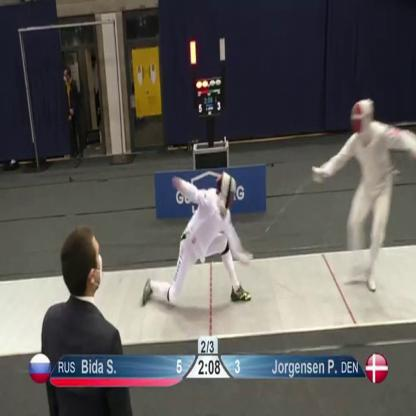crowd: (57, 57, 91, 179)
fencer: (310, 81, 416, 316), (135, 161, 259, 327)
referee: (37, 223, 136, 415)
